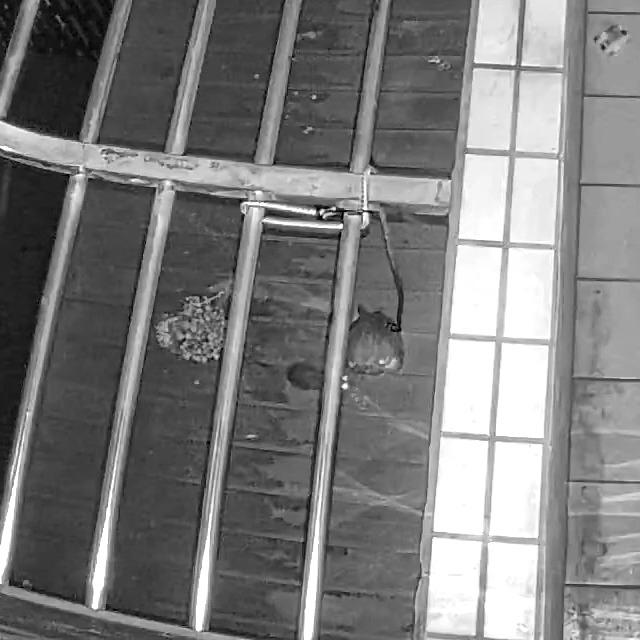rat: (246, 355, 359, 398)
